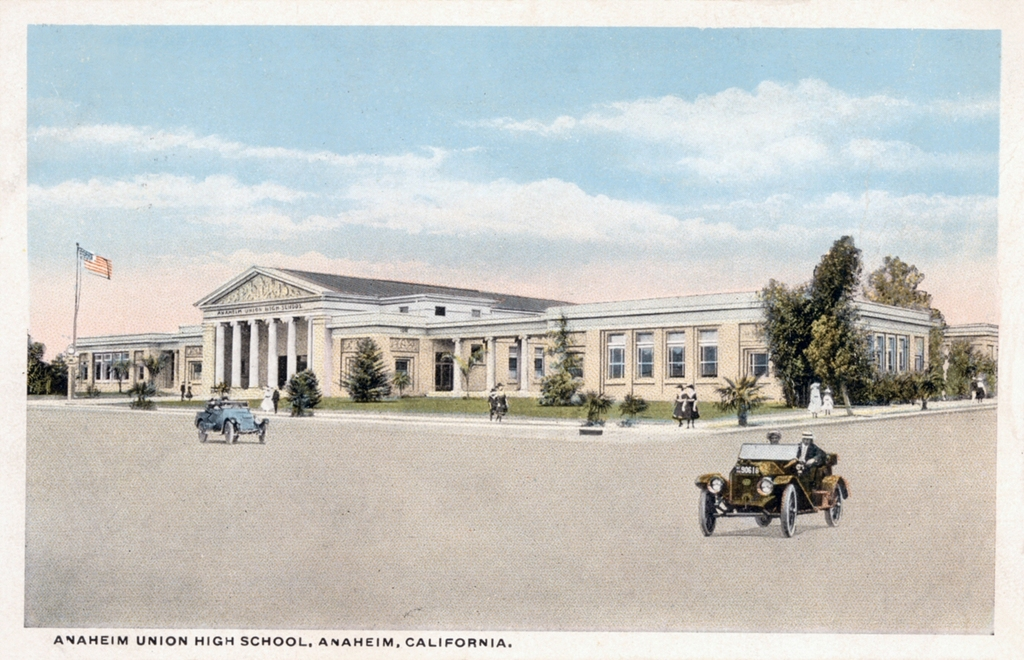Car: (706, 435, 848, 539), (190, 397, 262, 451)
